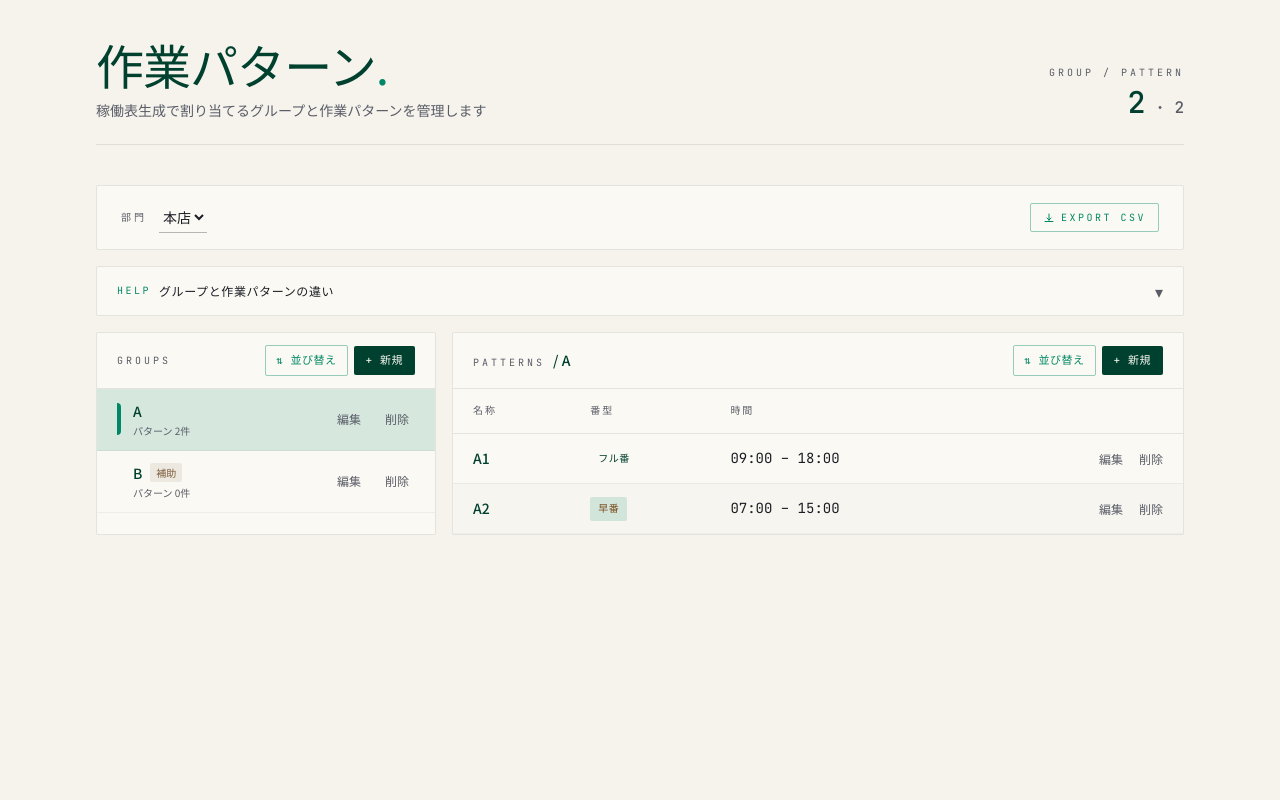
Scenario: WorkPatternsPage — group CRUD › Group 削除 opens cascade dialog with child count
Expected: the text "A" is shown, [133,400,142,420]
Click the button with aria-label "グループ A を削除": (397, 419) [379,411,415,427]
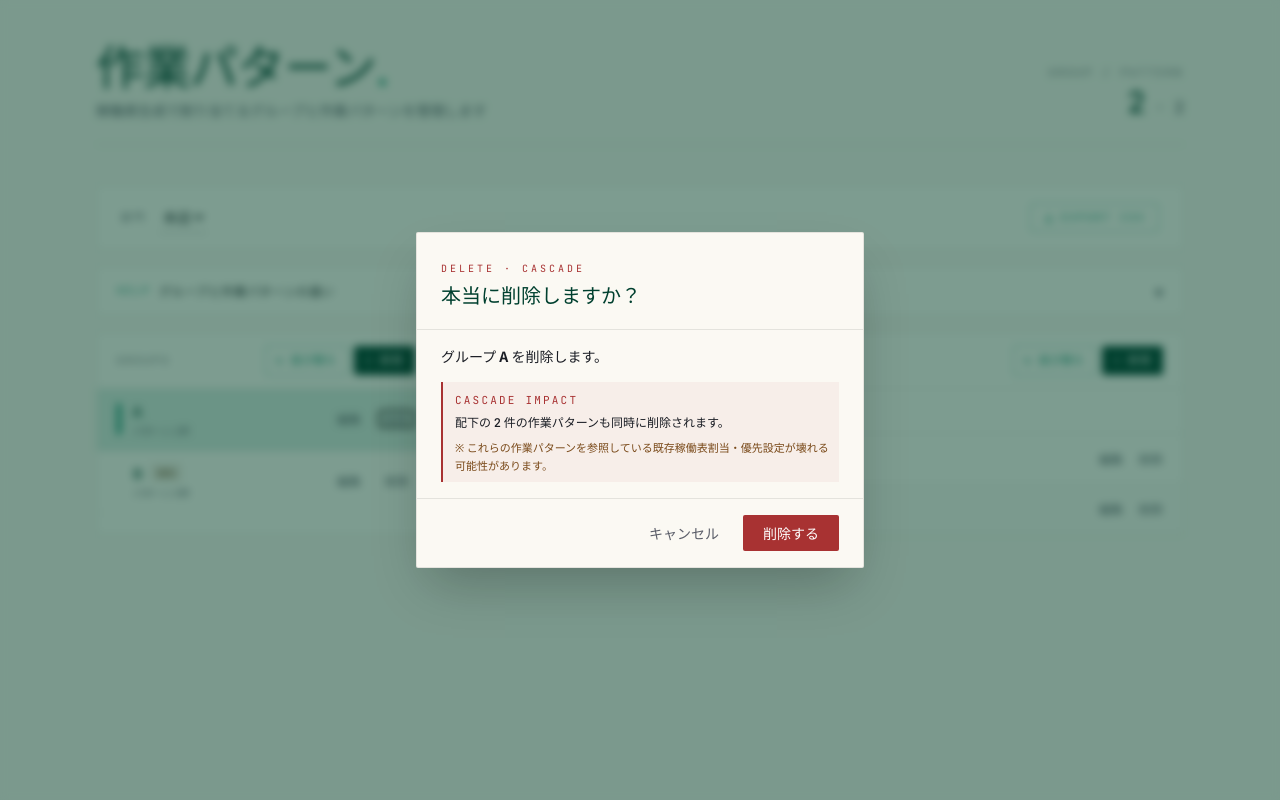
Expected: the text "Cascade Impact" is shown, [455,393,578,407]
Expected: the text "配下の 2 件の作業パターンも同時に削除されます。" is shown, [455,413,730,431]
